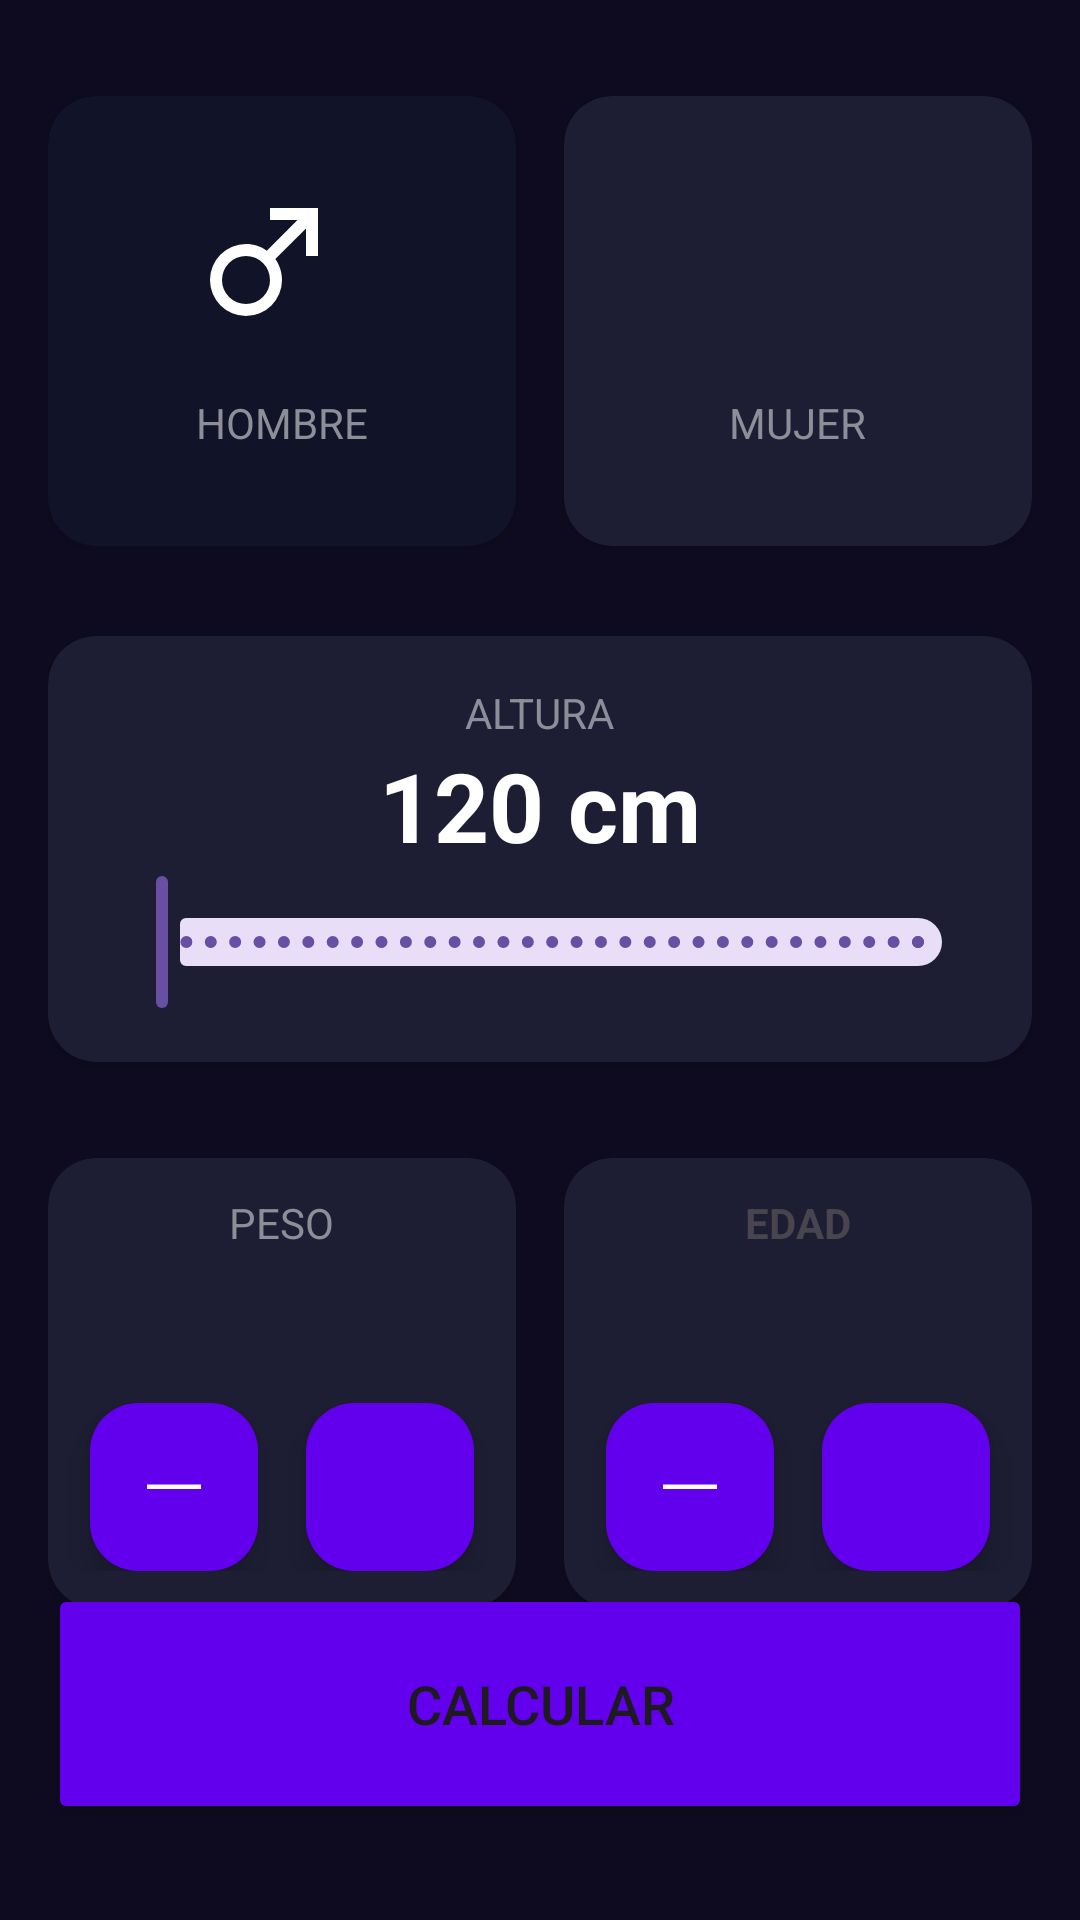

Locate icon controls on the screen. Image size 1080 × 1920, boxes as (x1, y1, x2, y2).
male: (210, 208, 318, 316)
subtract: (90, 1403, 258, 1571), (606, 1403, 774, 1571)
